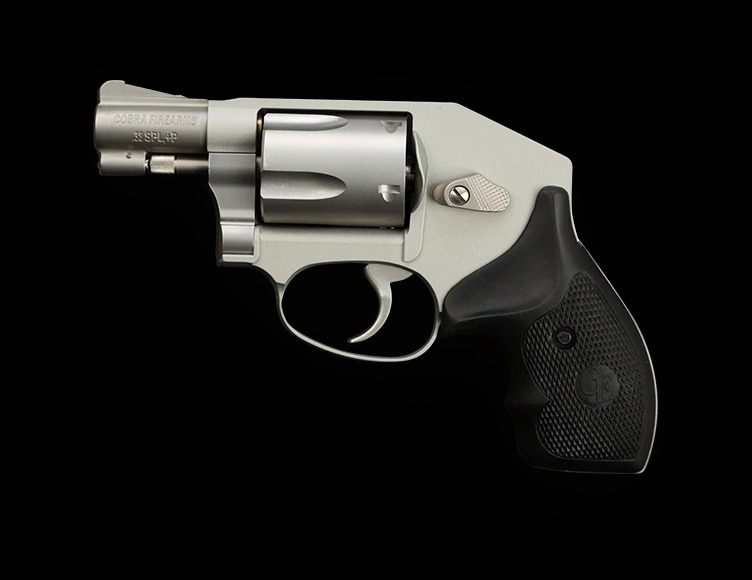gun: (87, 69, 664, 479)
